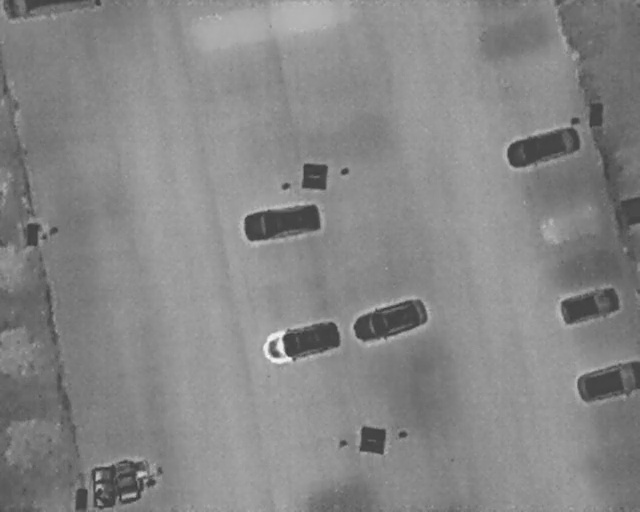Car: (347, 292, 433, 349), (257, 315, 343, 369), (502, 122, 585, 172), (239, 200, 324, 246), (574, 355, 640, 403), (556, 282, 624, 328), (619, 193, 640, 228)
